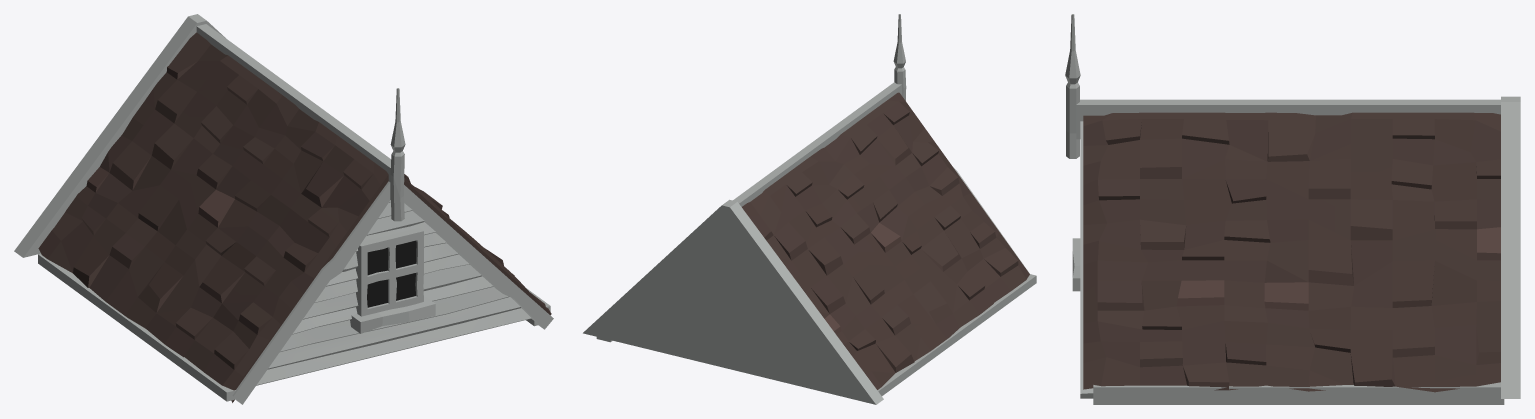
File: SM_Bld_Mansion_Roof_Single_01.glb
3 renders of one model, left to right at view 1: azimuth 30°, elevation 25°; view 2: azimuth 150°, elevation 25°; view 3: azimuth 270°, elevation 25°, orthographic. The views are drawn at different scales.
Visible parts, largest first — view 1: SM_Bld_Mansion_Roof_Single_01; view 2: SM_Bld_Mansion_Roof_Single_01; view 3: SM_Bld_Mansion_Roof_Single_01.
Part boxes in pixels (x1,y1,x2,y2): SM_Bld_Mansion_Roof_Single_01: (14,14,553,404); SM_Bld_Mansion_Roof_Single_01: (583,14,1036,404); SM_Bld_Mansion_Roof_Single_01: (1065,14,1520,404).
Size of the model in its own units: 0.0499 by 0.0385 by 0.0519.
